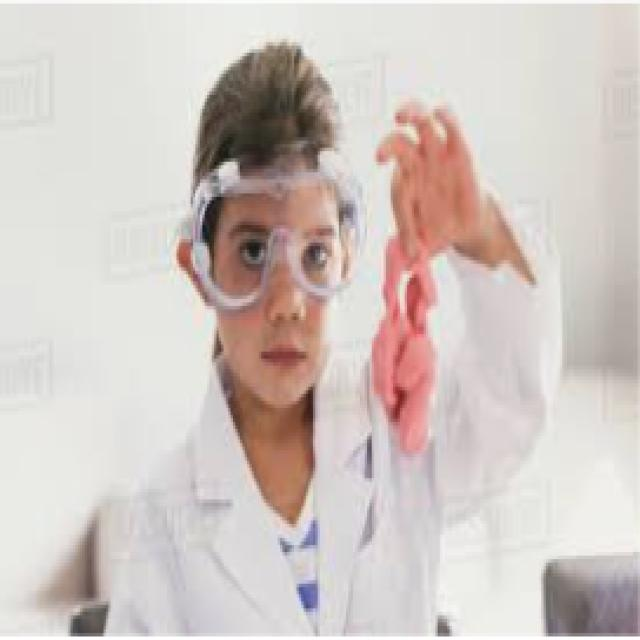glasses: (203, 155, 371, 298)
